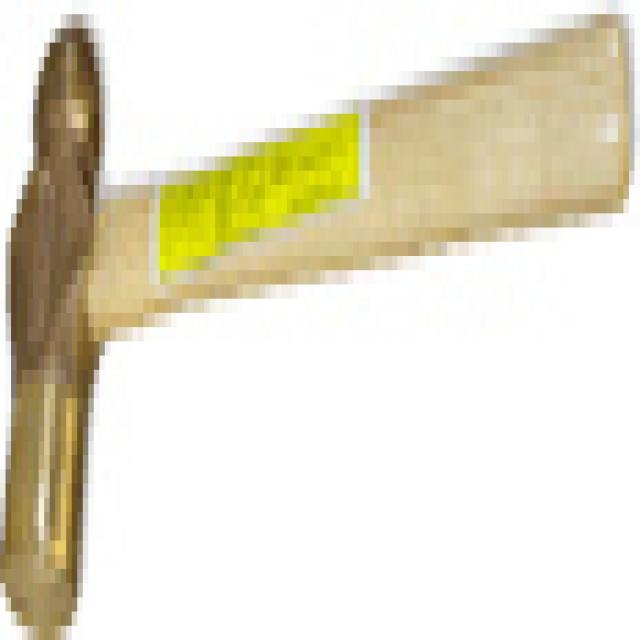Hammer: (0, 10, 640, 638)
